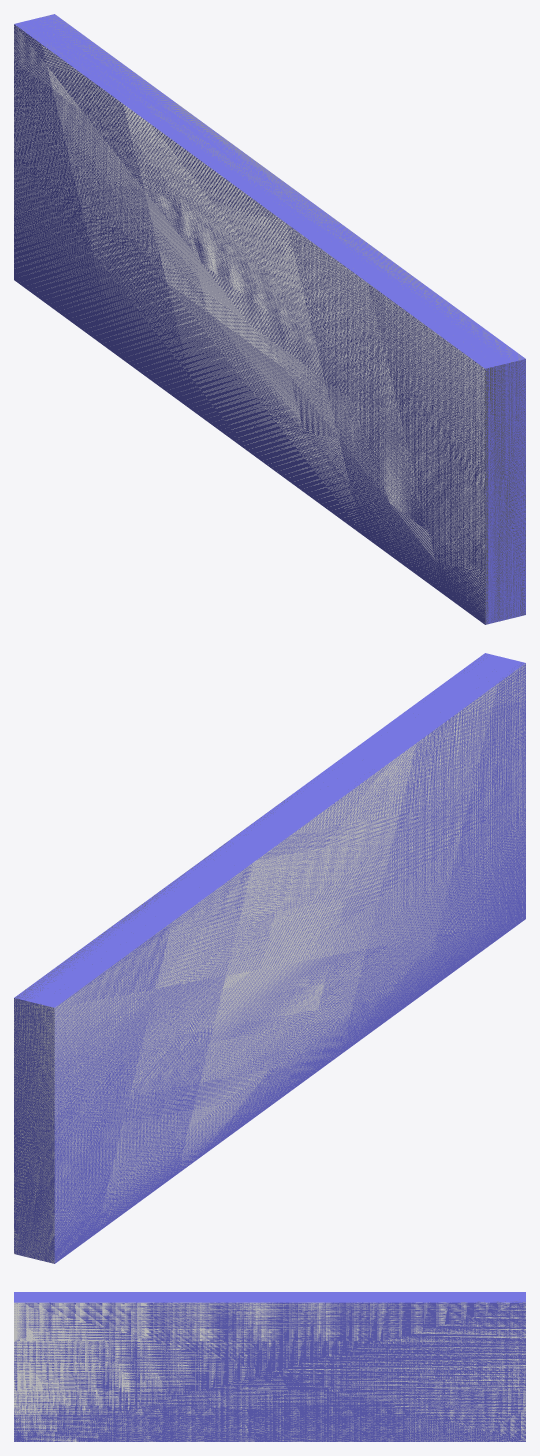
Rendered from SM_Dummy_Fence.fbx.
3 renders of one model, top to bottom at view 1: azimuth 30°, elevation 25°; view 2: azimuth 150°, elevation 25°; view 3: azimuth 270°, elevation 25°, orthographic. The views are drawn at different scales.
Visible parts, largest first — view 1: SM_Dummy_Fence, SM_Dummy_Fence_ConvexHulls; view 2: SM_Dummy_Fence, SM_Dummy_Fence_ConvexHulls; view 3: SM_Dummy_Fence, SM_Dummy_Fence_ConvexHulls.
Part boxes in pixels (bbox=[...]): SM_Dummy_Fence: bbox=[14, 14, 525, 624]; SM_Dummy_Fence_ConvexHulls: bbox=[14, 14, 525, 624]; SM_Dummy_Fence: bbox=[14, 653, 525, 1263]; SM_Dummy_Fence_ConvexHulls: bbox=[14, 656, 525, 1263]; SM_Dummy_Fence: bbox=[14, 1292, 525, 1441]; SM_Dummy_Fence_ConvexHulls: bbox=[14, 1301, 525, 1441].
Size of the model in its own units: 15 by 300 by 89.96.
Materials: 2 (1 with a texture image).
